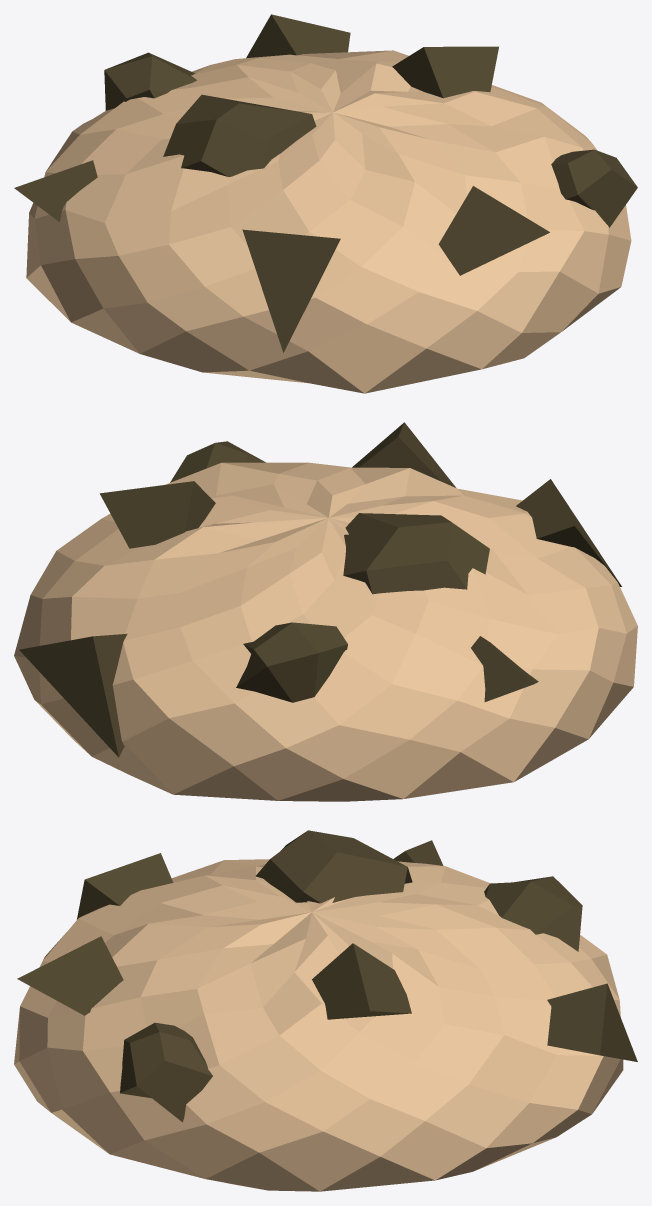
File: cookie.glb
The picture shows the model from 3 angles, top to bottom: view 1: azimuth 30°, elevation 25°; view 2: azimuth 150°, elevation 25°; view 3: azimuth 270°, elevation 25°; orthographic projection. The views are drawn at different scales.
Parts seen in each view (by area): view 1: Cookie; view 2: Cookie; view 3: Cookie.
Boxes of the visible parts, x1,y1,x2,y2 form: Cookie: [14, 14, 637, 393]; Cookie: [14, 422, 637, 801]; Cookie: [14, 830, 637, 1191].
Size of the model in its own units: 179 by 68.44 by 184.
